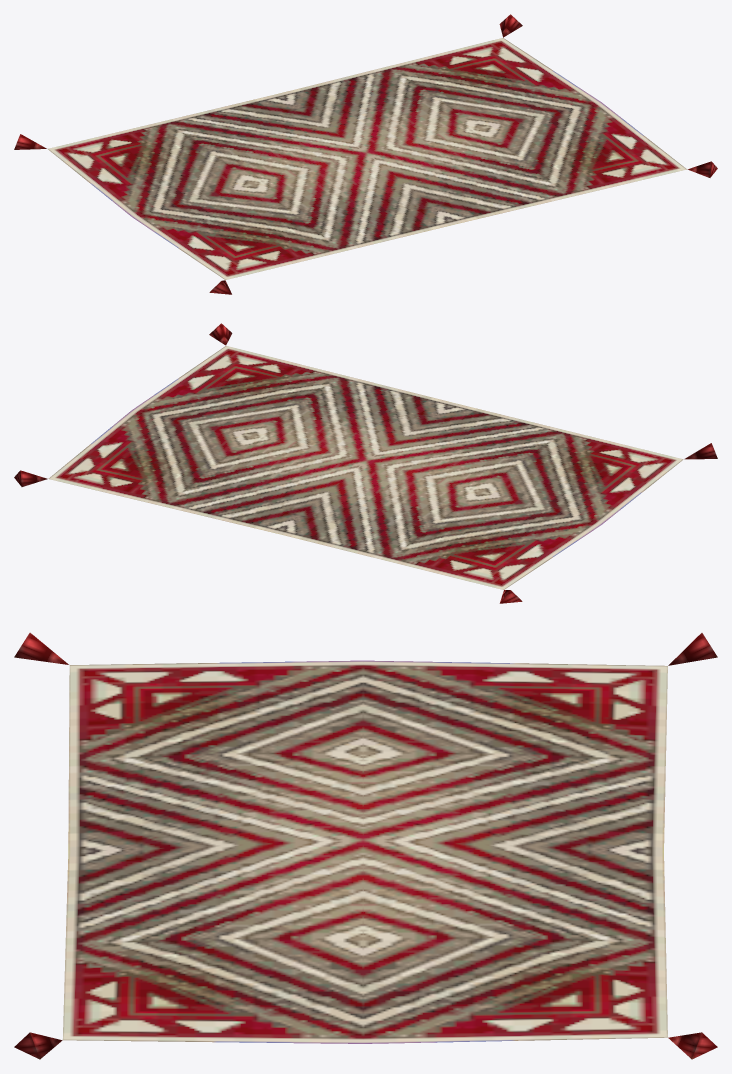
Rendered from taurenrug04.obj.
The picture shows the model from 3 angles, top to bottom: view 1: azimuth 30°, elevation 25°; view 2: azimuth 150°, elevation 25°; view 3: azimuth 270°, elevation 25°; orthographic projection. The views are drawn at different scales.
Visible parts, largest first — view 1: taurenrug04; view 2: taurenrug04; view 3: taurenrug04.
Part boxes in pixels (<box>): taurenrug04: <box>14,14,717,294</box>; taurenrug04: <box>14,323,717,603</box>; taurenrug04: <box>14,632,717,1059</box>.
Size of the model in its own units: 2.91 by 0.0653 by 2.09.
